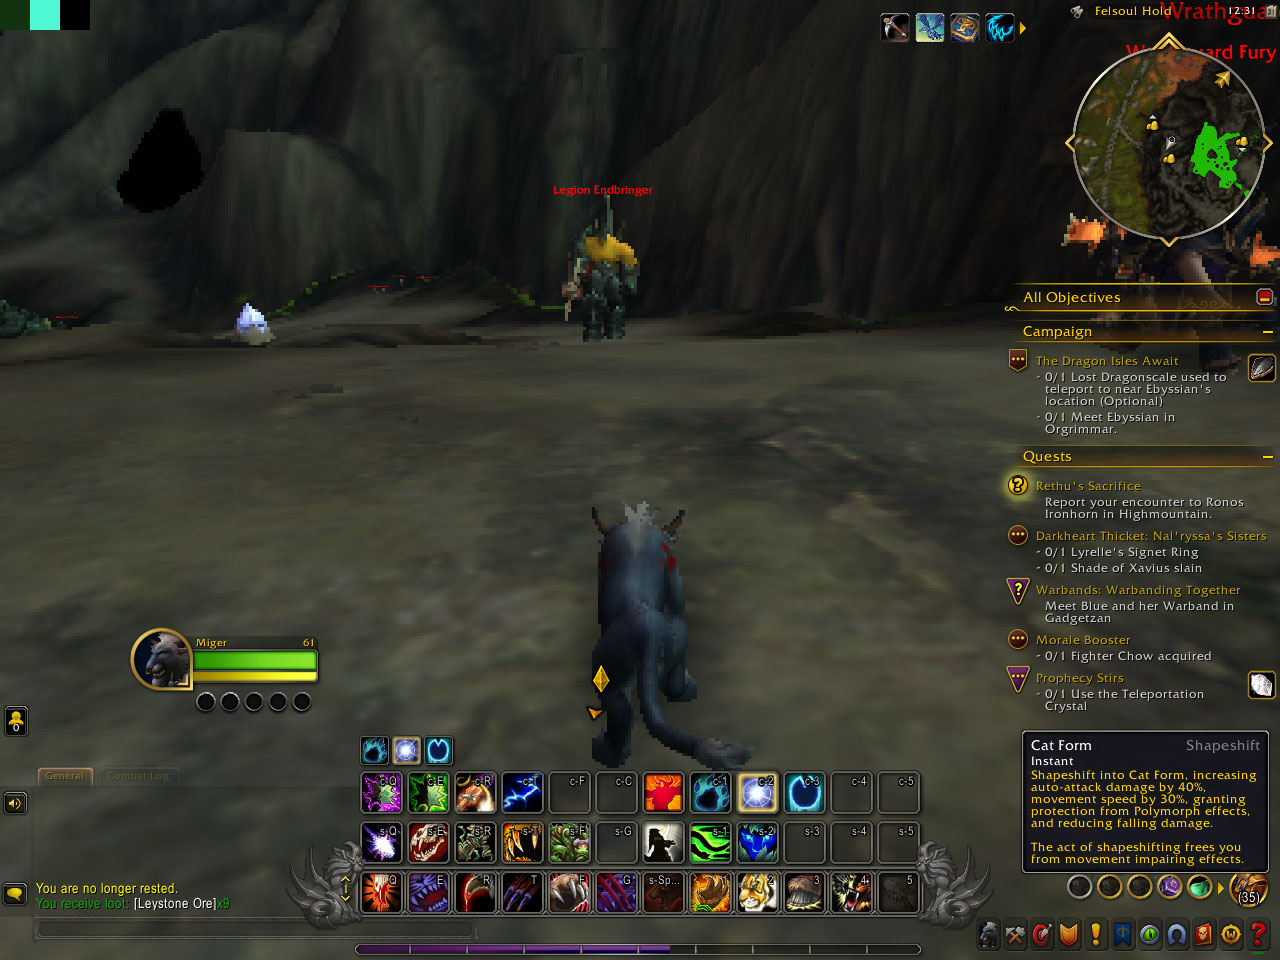ore: (228, 304, 274, 348)
